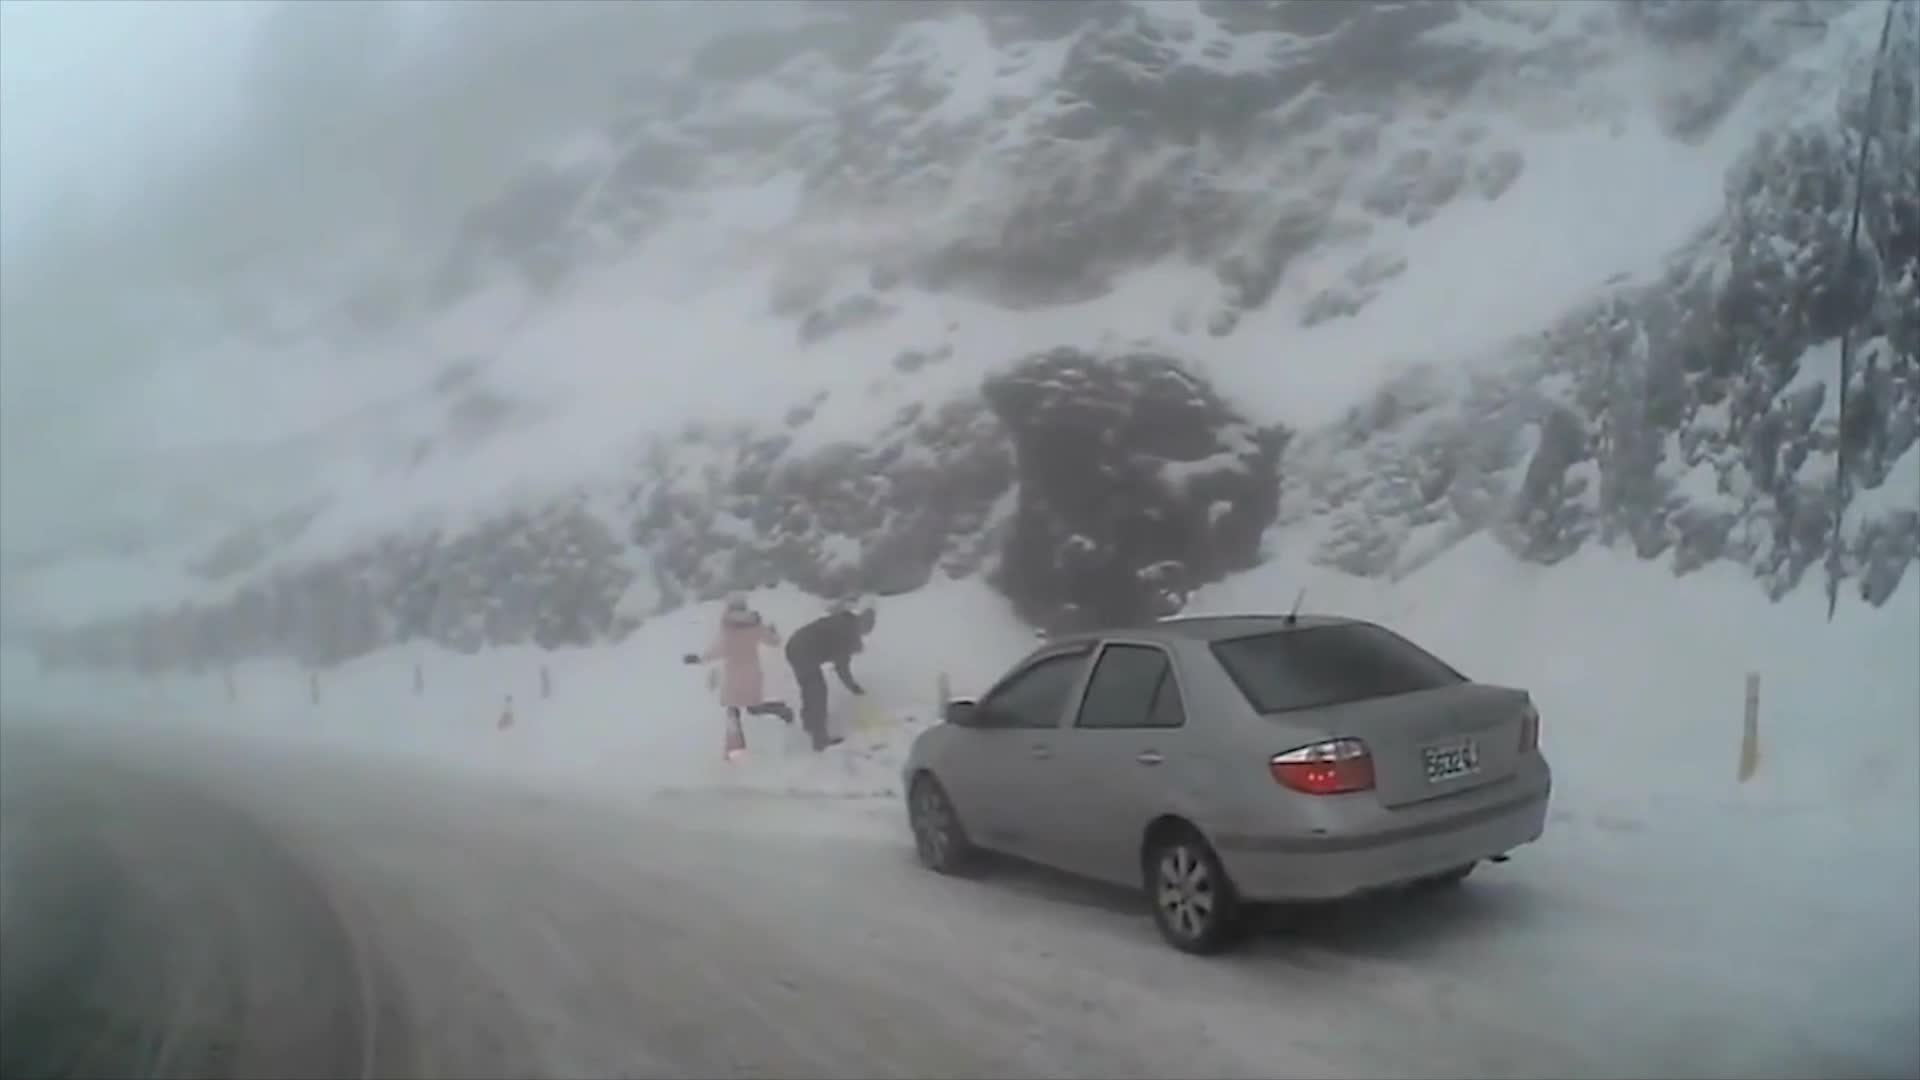pedestrian: (693, 591, 791, 760), (788, 607, 877, 751)
vehicle: (902, 612, 1550, 958)
